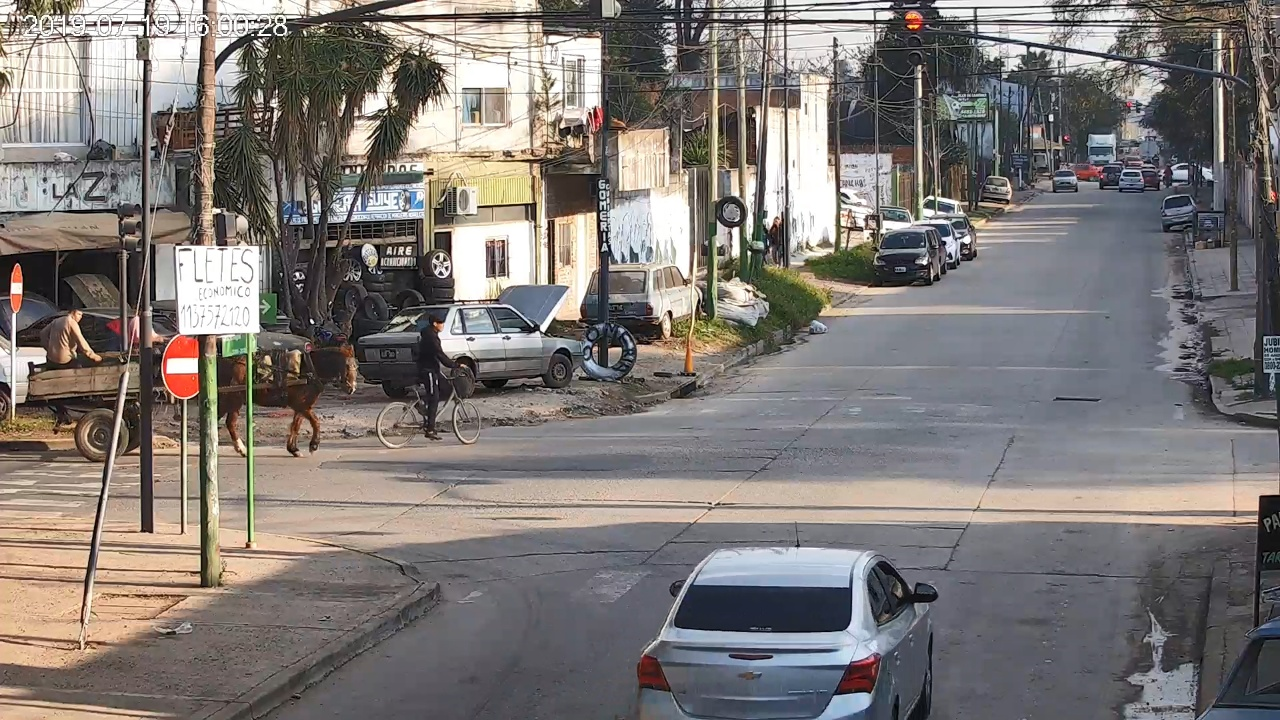car: (635, 547, 941, 720)
traffic light: (905, 11, 925, 66)
